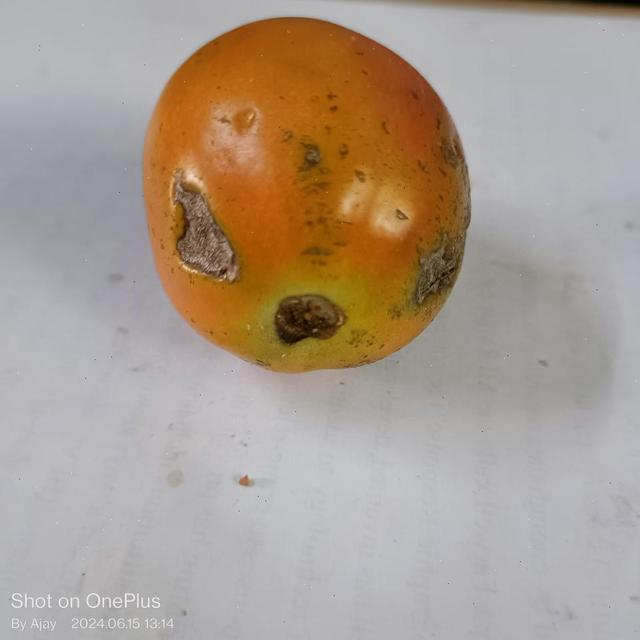Bacterial Spot Fruit: (29, 60, 288, 172)
